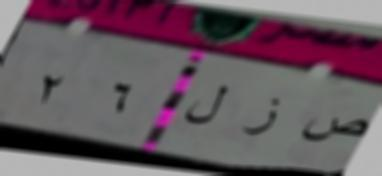2: (34, 68, 67, 107)
6: (110, 76, 136, 118)
laam: (184, 75, 228, 131)
saad: (298, 106, 370, 148)
zay: (241, 91, 282, 137)
